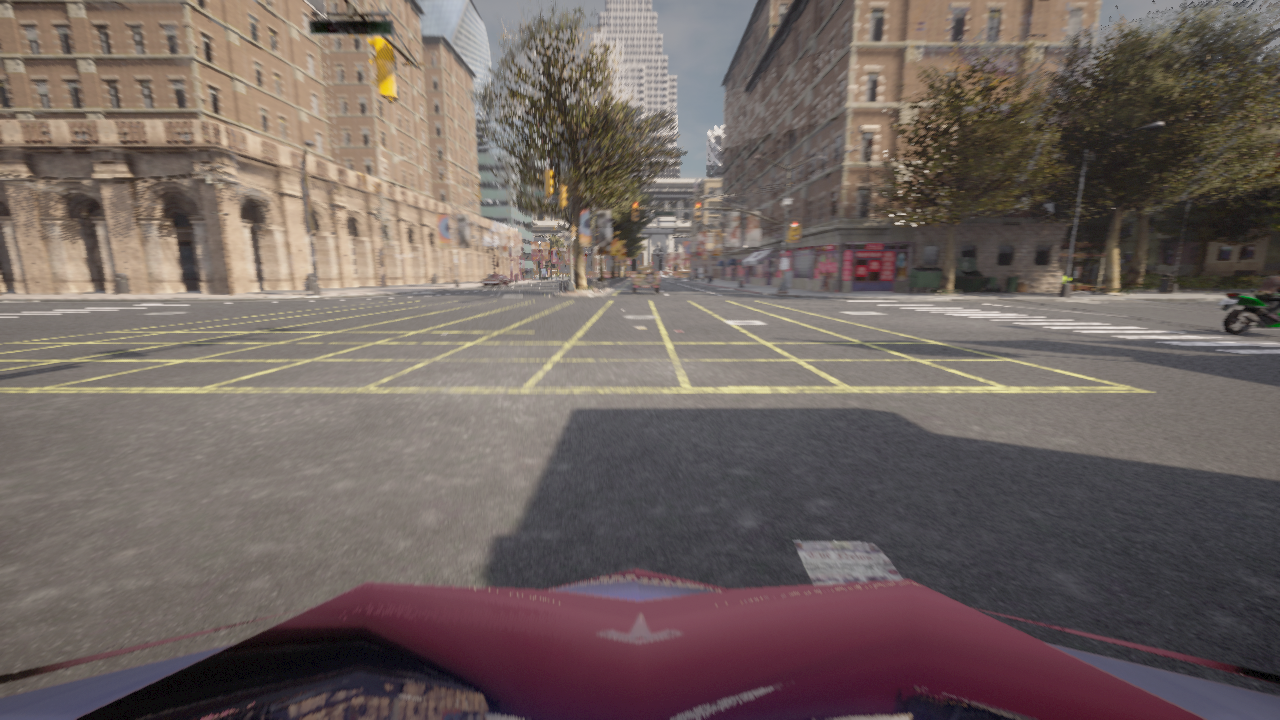cyclist: (0, 569, 1279, 719), (1218, 291, 1279, 334), (632, 267, 659, 293), (482, 274, 510, 287), (1062, 275, 1070, 282)
